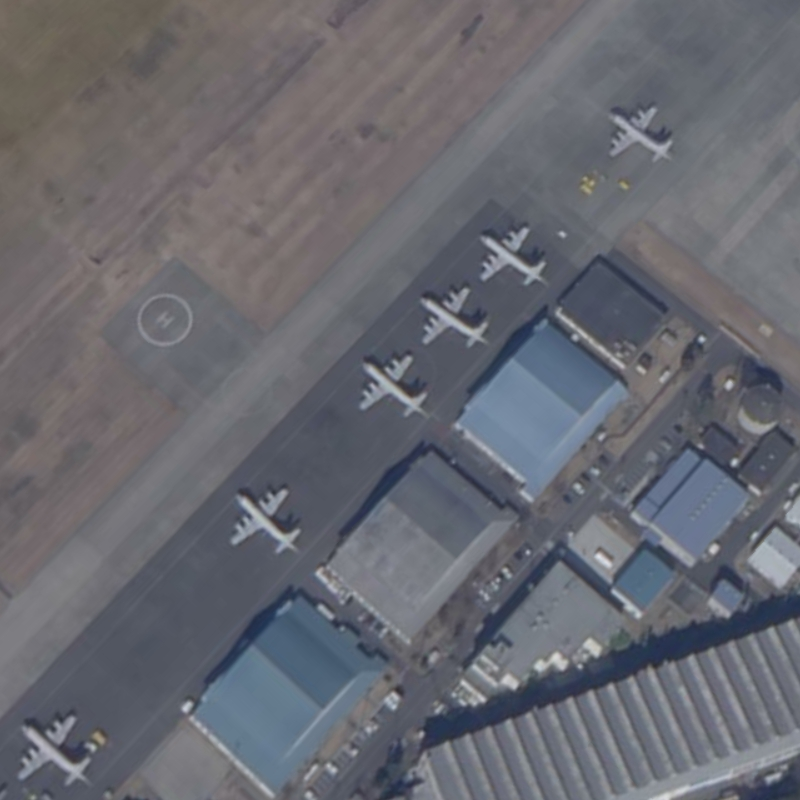A9: (9, 703, 105, 792), (221, 476, 315, 565), (474, 210, 551, 297), (353, 348, 437, 426), (599, 100, 682, 170), (415, 279, 494, 351)
